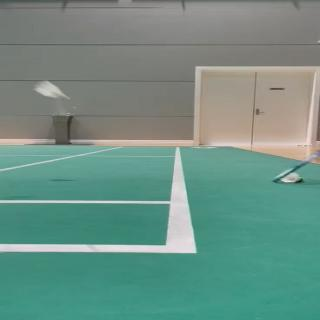Shuttle: (34, 81, 72, 100), (280, 172, 304, 182)
